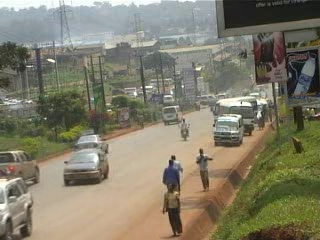Car: (0, 176, 35, 238), (61, 146, 110, 186), (0, 150, 41, 183), (74, 134, 110, 153)
Motorcycle: (180, 125, 189, 140)
